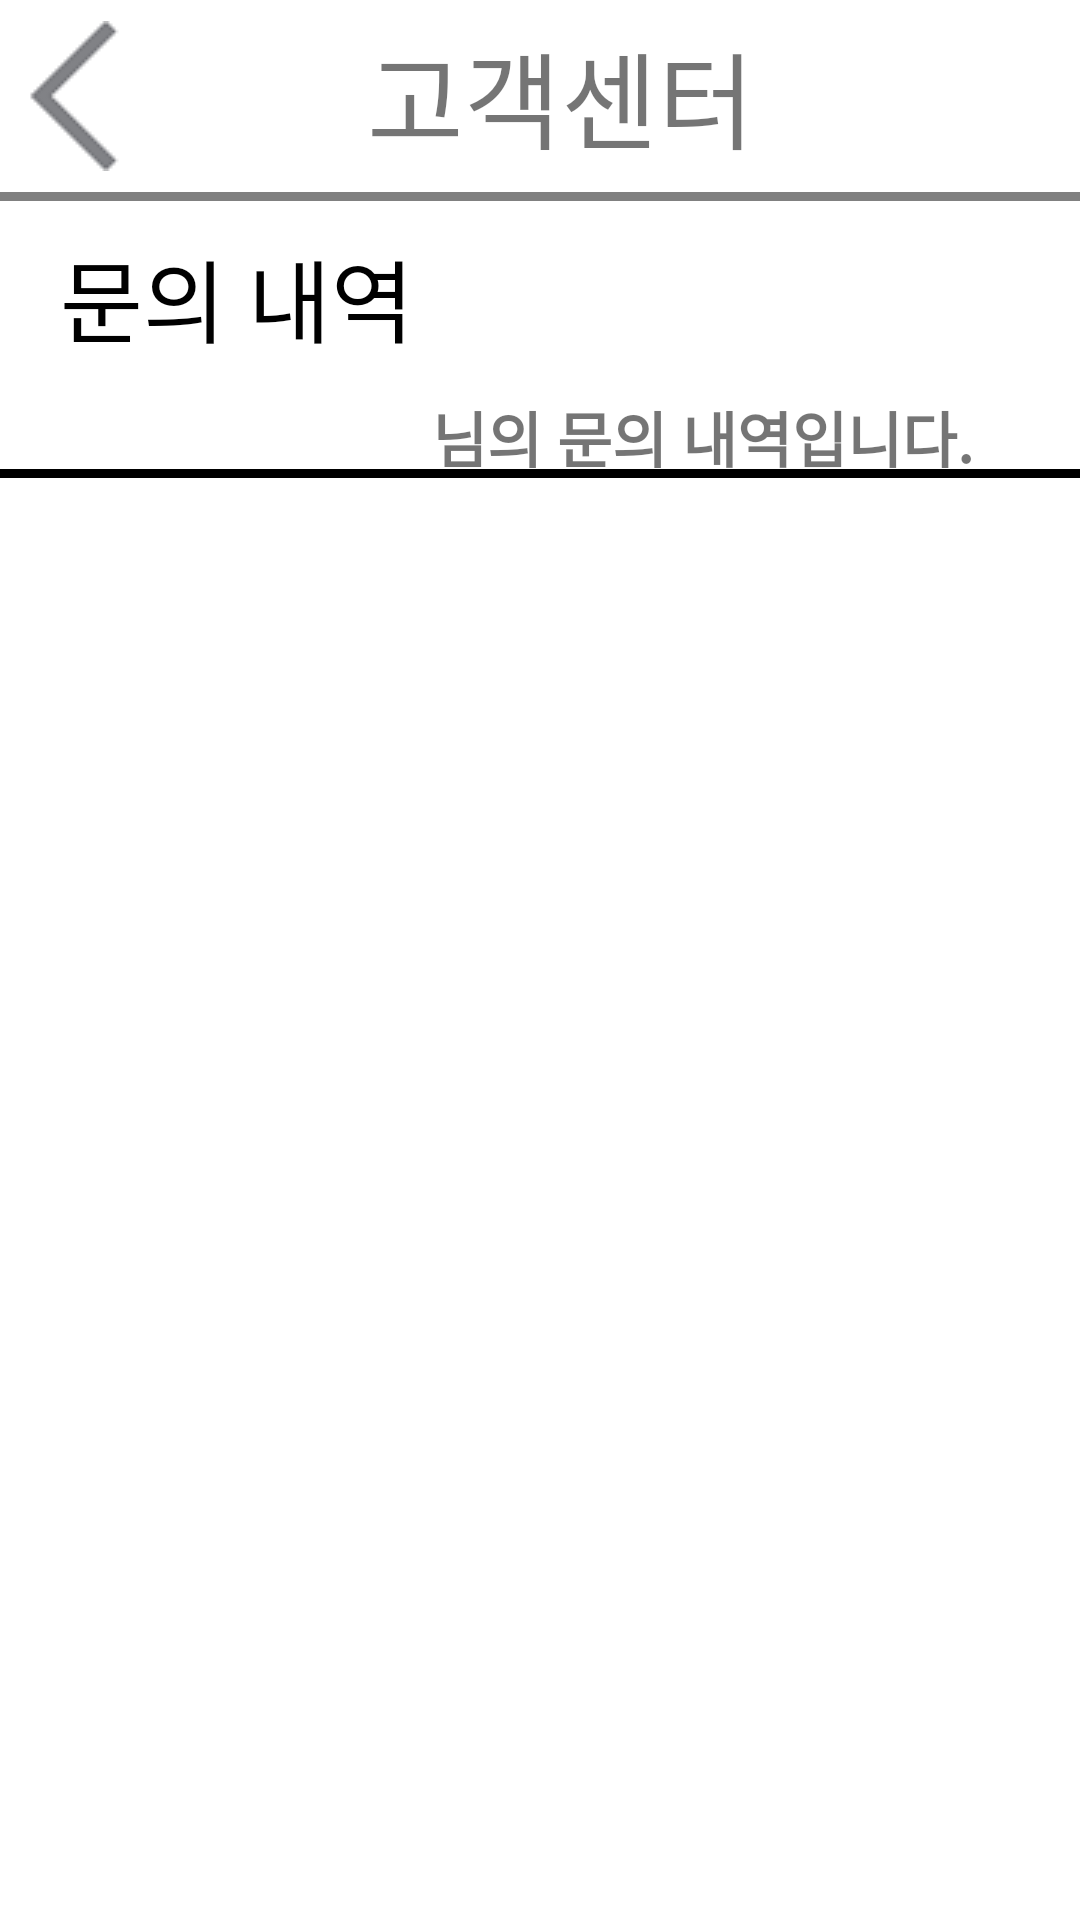

Icons on this 1080*1920 Android screen, each with the point to tap as (x=x, y=y):
back space: (x=73, y=96)
